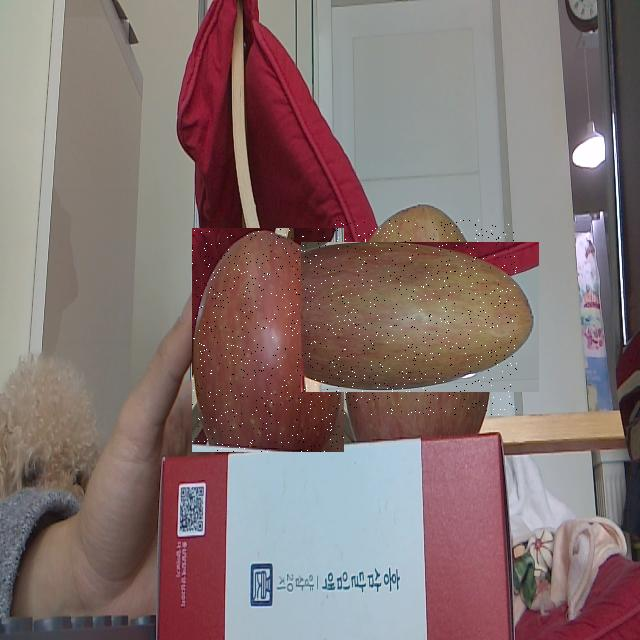apple: (322, 220, 517, 415), (192, 228, 344, 452)
